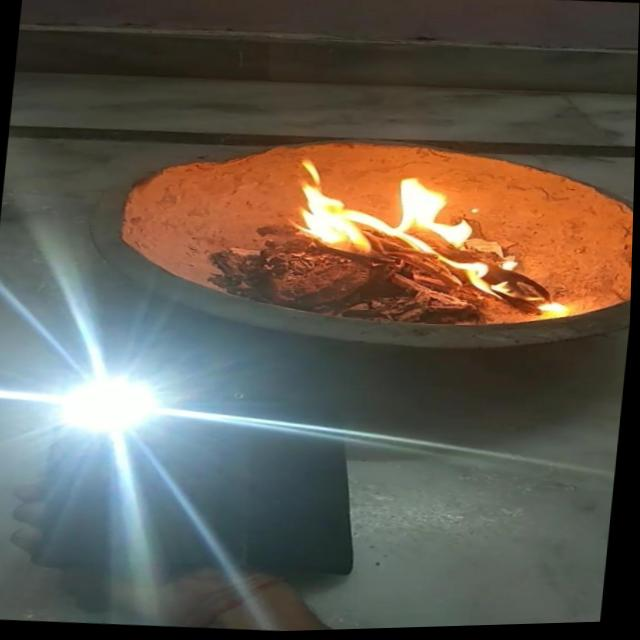fire: (262, 148, 588, 328)
